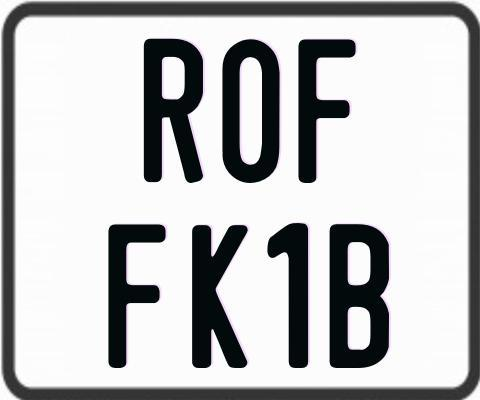0: (221, 38, 280, 182)
1: (265, 221, 311, 370)
B: (330, 224, 389, 370)
F: (297, 39, 361, 188), (106, 221, 168, 369)
K: (190, 222, 248, 367)
R: (144, 37, 204, 186)
